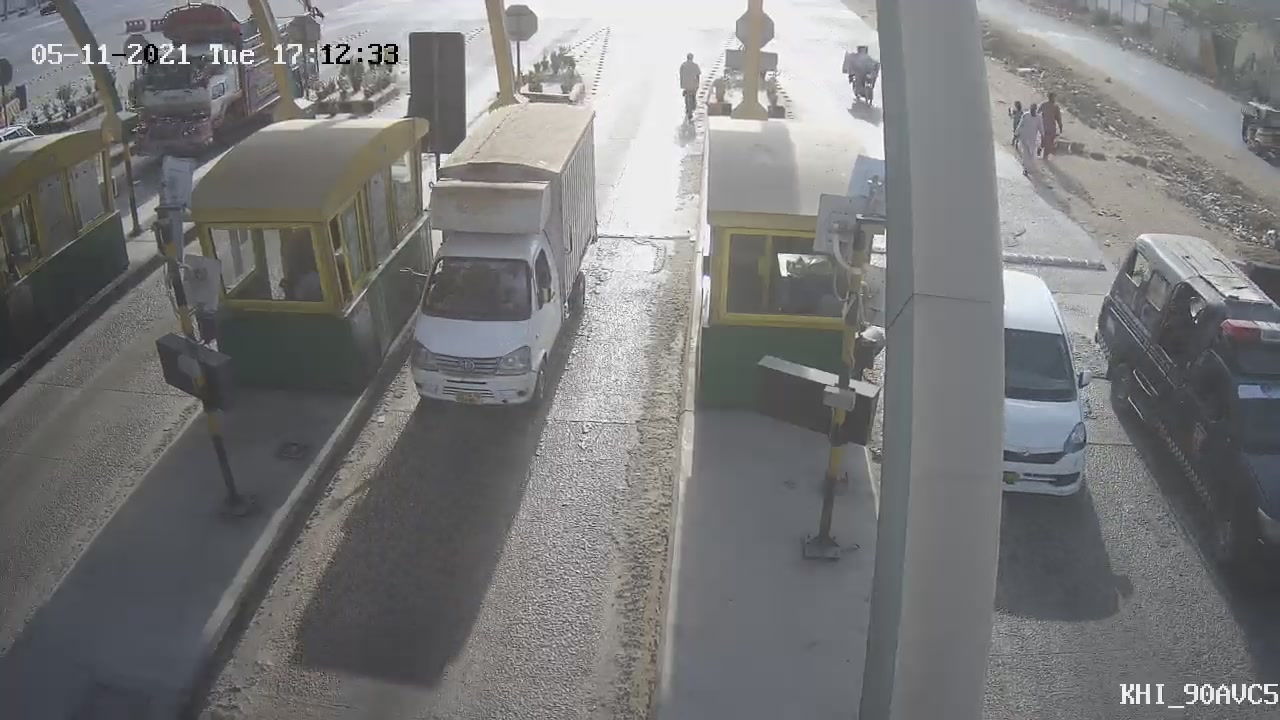F2: (382, 81, 620, 434)
